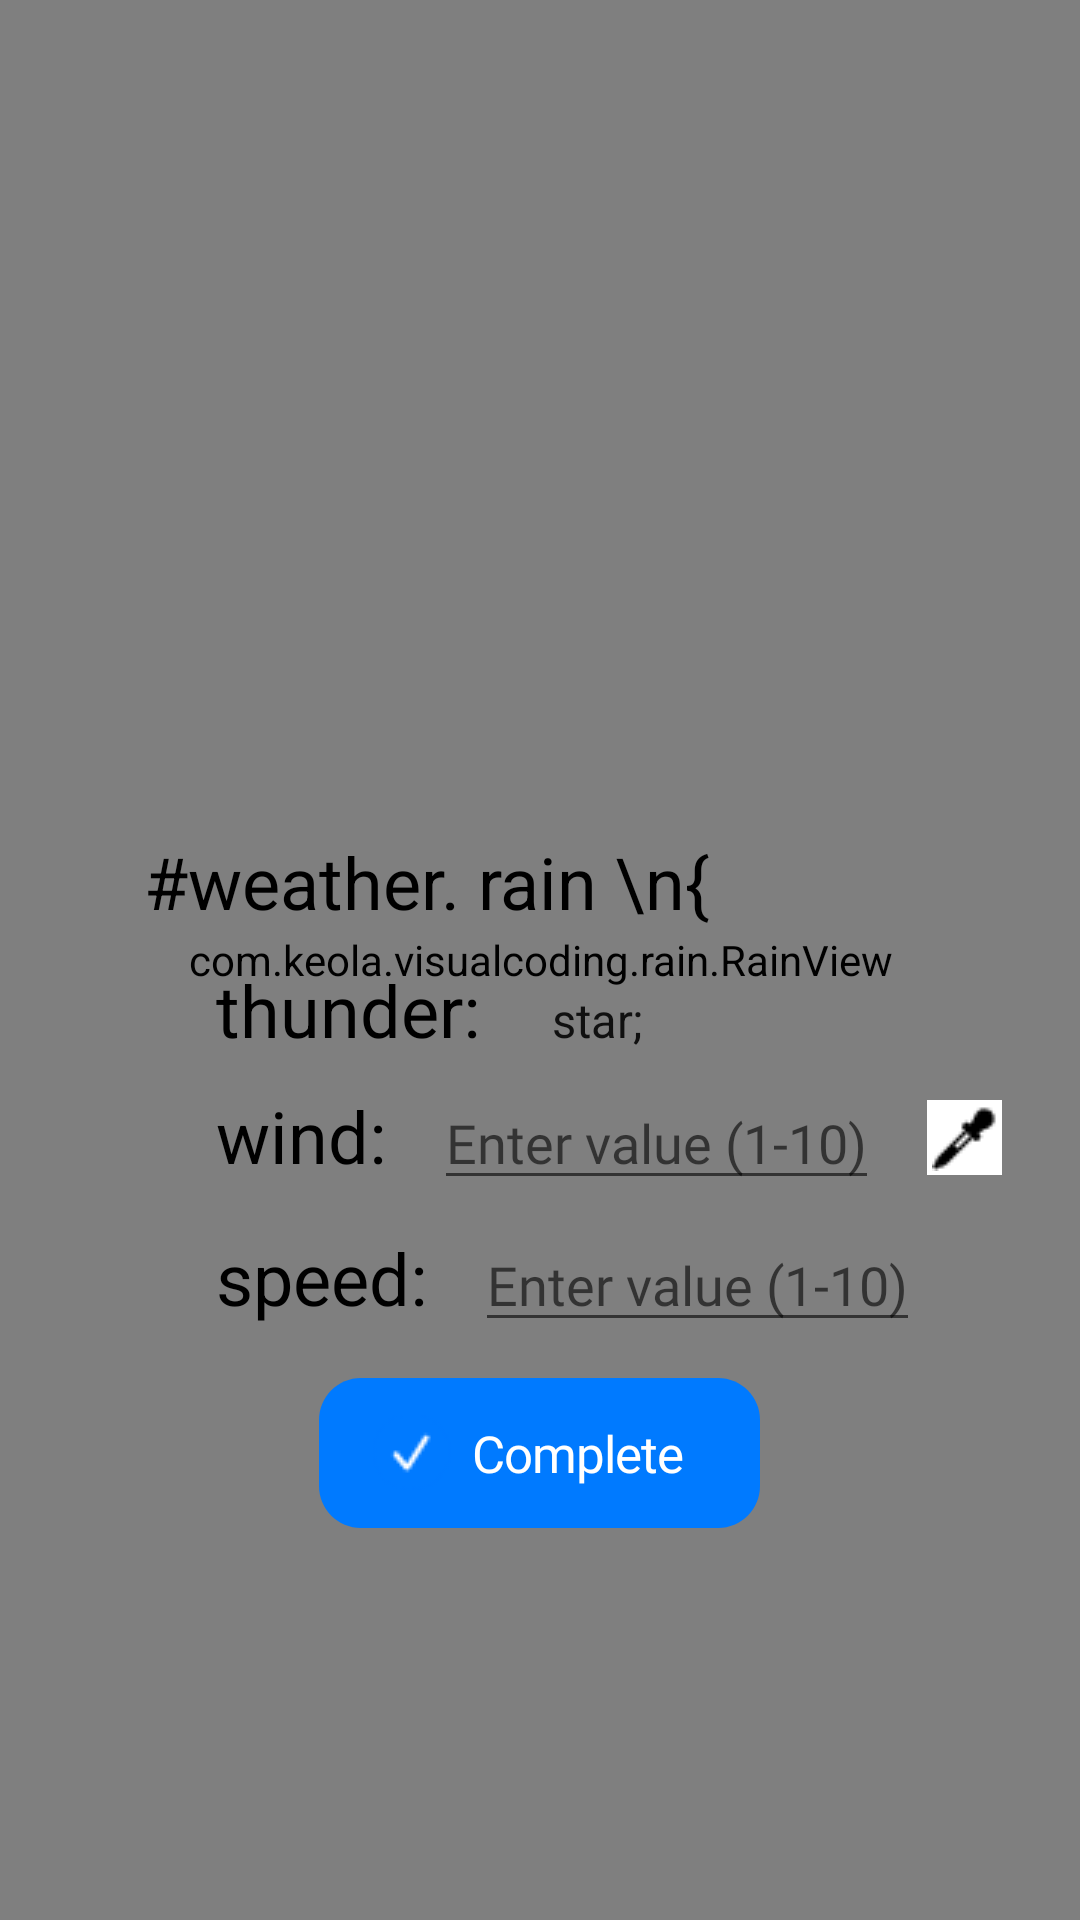

Where icons sit on this 1080w x 1920h app screen, as bbox=(x1, y1, x2, y2):
eyedropper: bbox=(927, 1100, 1002, 1175)
